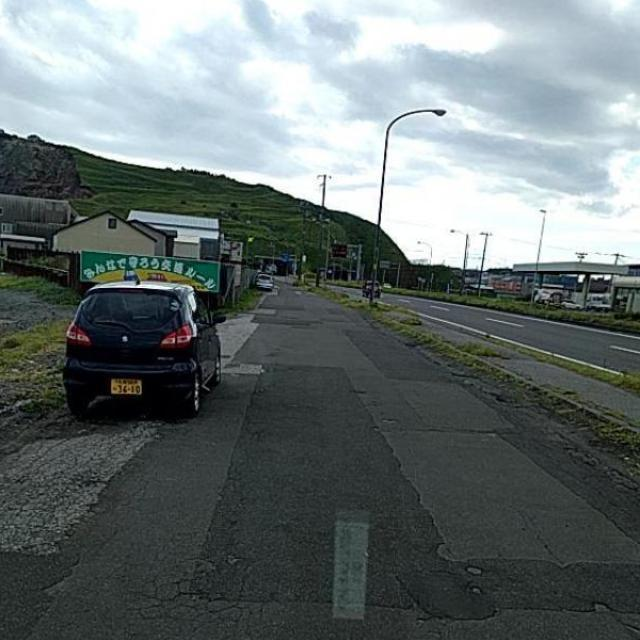Sambungan: (194, 368, 492, 620), (469, 562, 638, 616)
